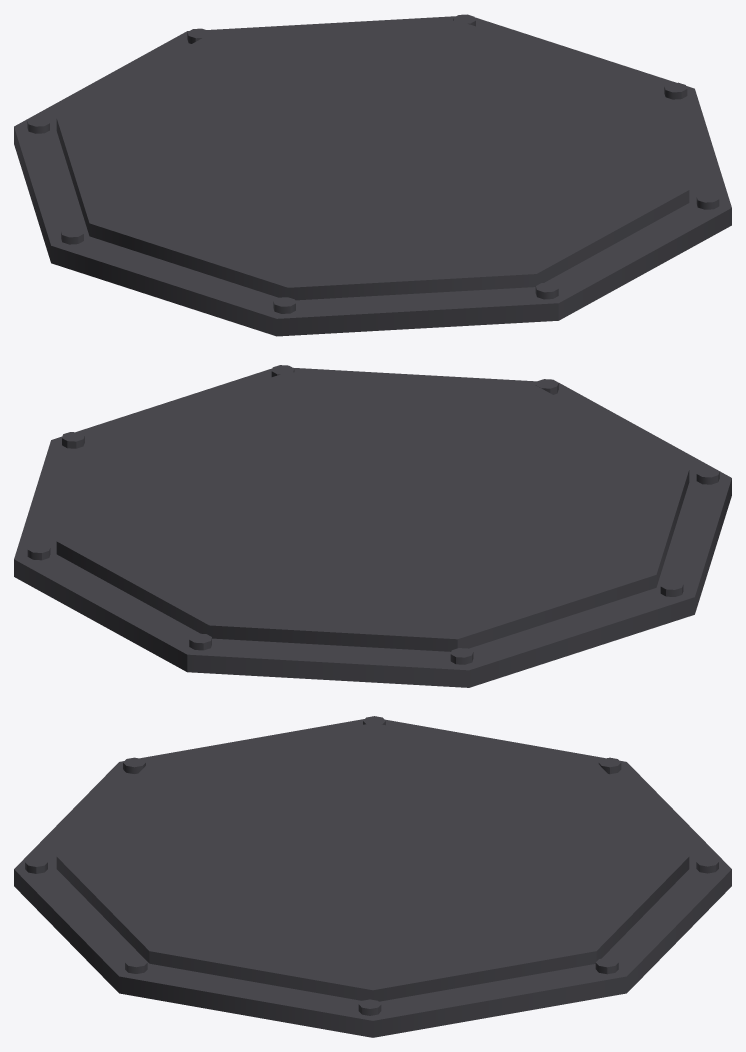
File: Manhole_Cover.glb
3 renders of one model, top to bottom at view 1: azimuth 30°, elevation 25°; view 2: azimuth 150°, elevation 25°; view 3: azimuth 270°, elevation 25°, orthographic. The views are drawn at different scales.
Parts seen in each view (by area): view 1: Manhole Cover; view 2: Manhole Cover; view 3: Manhole Cover.
Boxes of the visible parts, x1,y1,x2,y2 form: Manhole Cover: (14, 14, 731, 336); Manhole Cover: (14, 365, 731, 687); Manhole Cover: (14, 716, 731, 1037).
Bounding box in the file's own units: 6.01 × 0.2728 × 6.01.
1 material, 1 textured.
